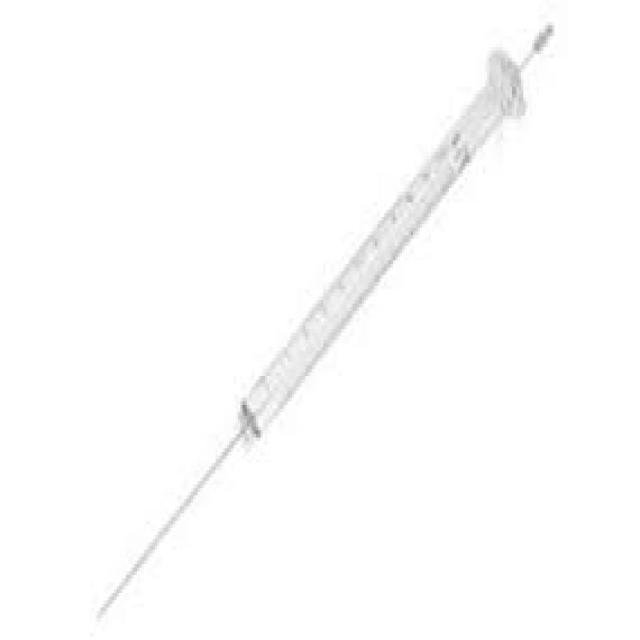syringe: (76, 23, 601, 621)
